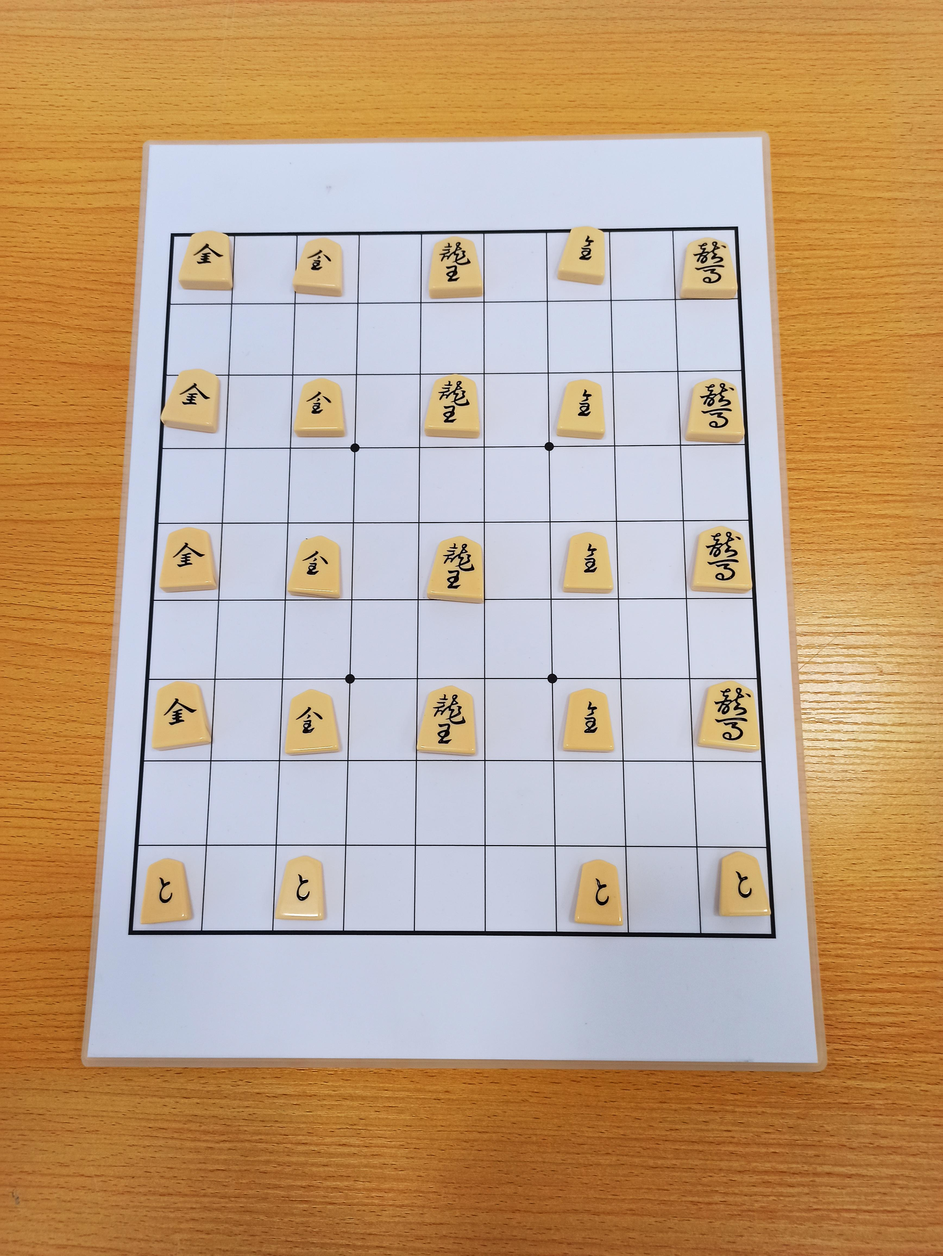board: (130, 229, 775, 936)
